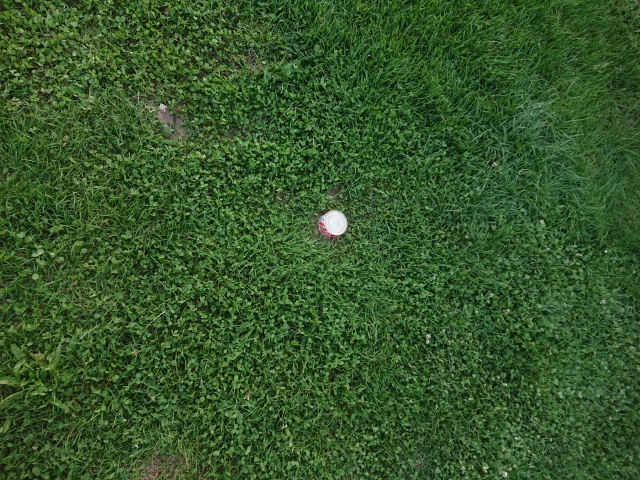Podravka Luncheon Meat 150g: (314, 207, 351, 241)
